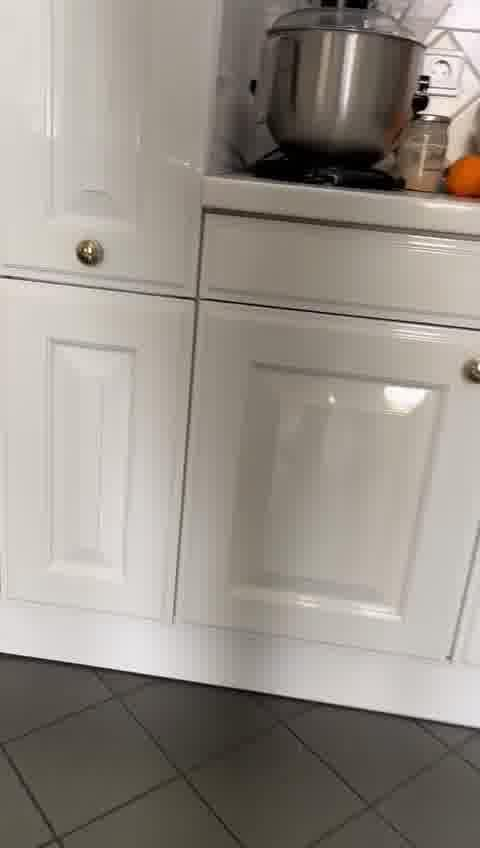cabinet_door: (189, 311, 480, 682), (0, 286, 186, 642), (0, 0, 199, 289), (205, 219, 480, 297)
handle: (72, 230, 105, 274), (465, 355, 480, 393)
